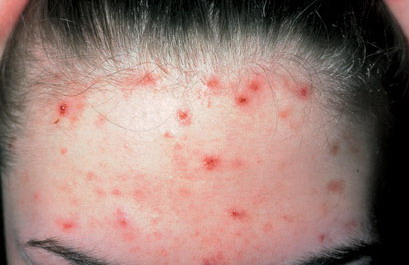jerawat: (47, 67, 359, 245)
